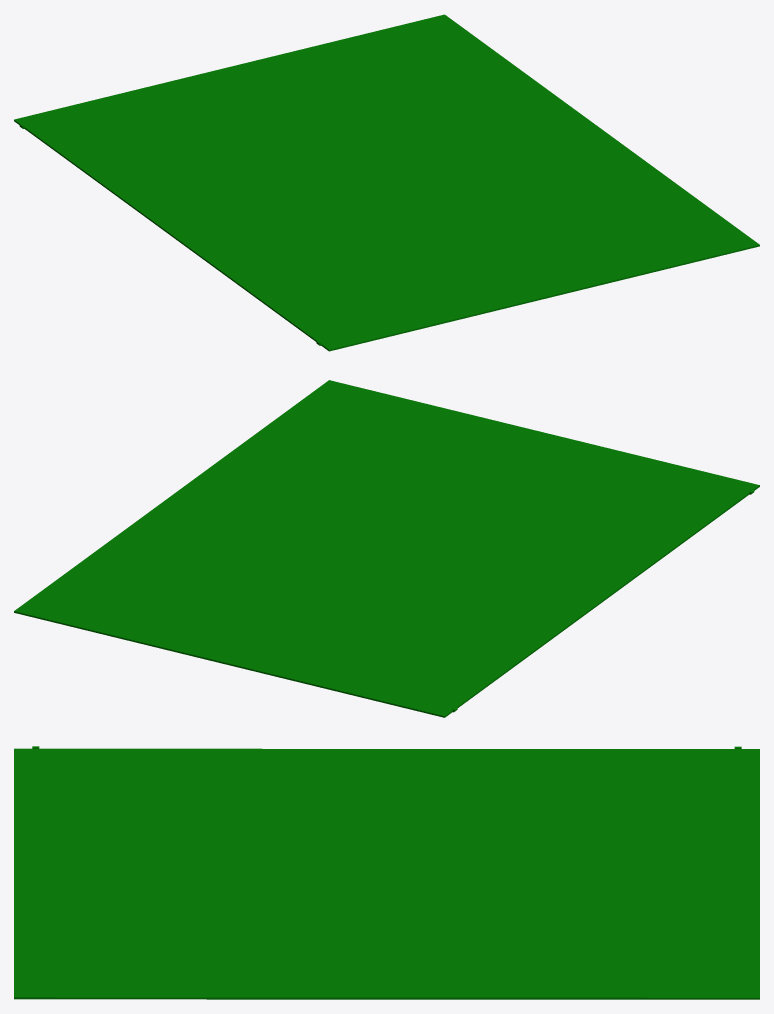
Rendered from psycheSolarPanel1-5_a.obj.
3 renders of one model, top to bottom at view 1: azimuth 30°, elevation 25°; view 2: azimuth 150°, elevation 25°; view 3: azimuth 270°, elevation 25°, orthographic. The views are drawn at different scales.
Bounding box in the file's own units: 311 × 2.38 × 392.
